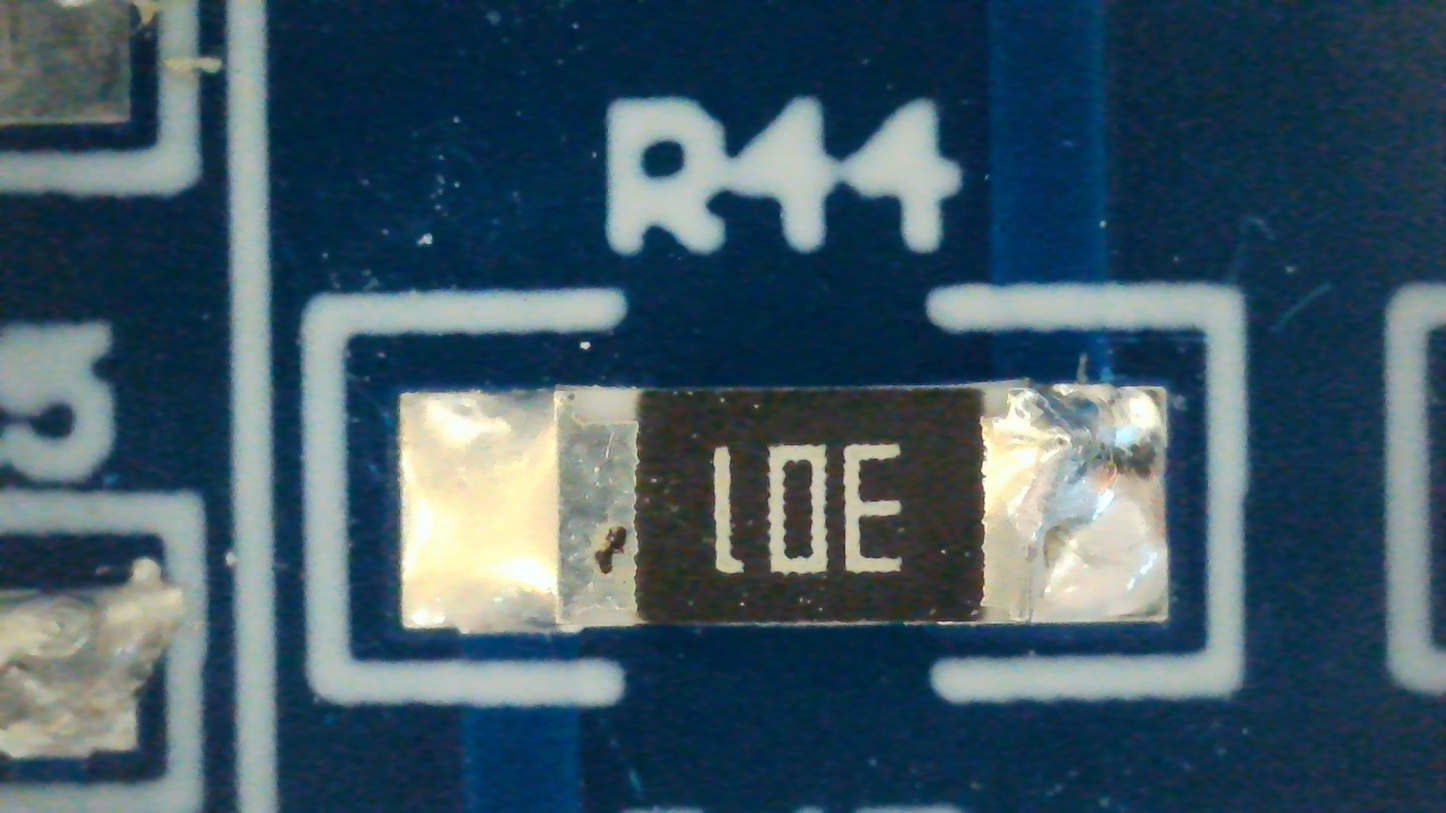OK: (401, 386, 1170, 628)
